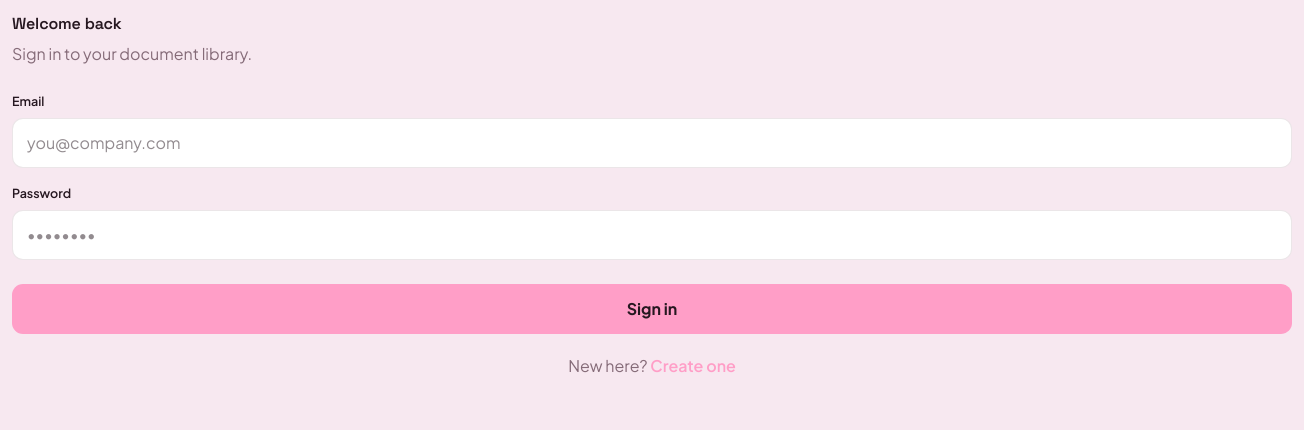
Scenario: AuthForm › shows auth error message on failure
The width and height of the screenshot is (1304, 430).
Type "user@example.com" into the field labelled "Email".
click(652, 143); type("user@example.com")  # box left=12, top=118, right=1292, bottom=168
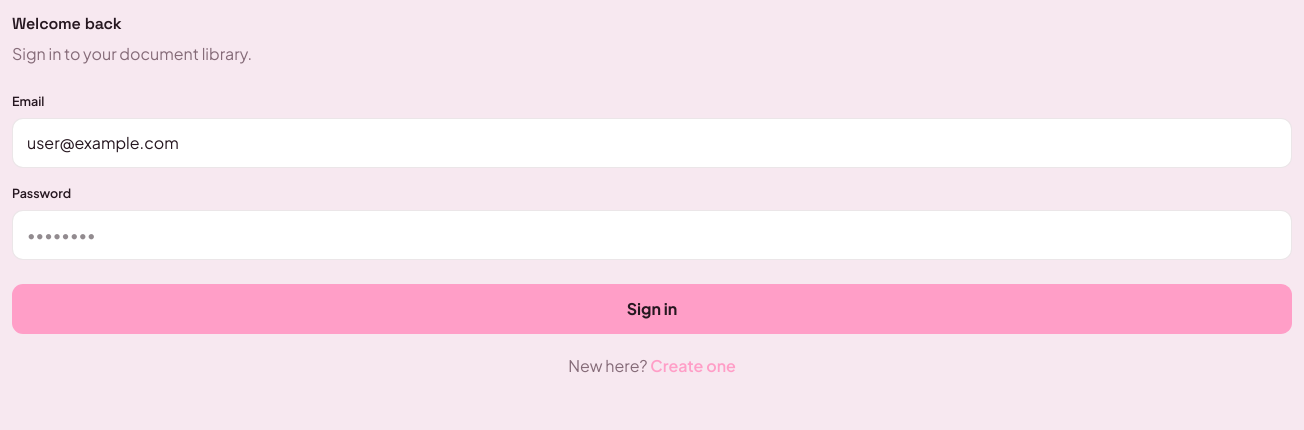
Type "wrong" into the password field labelled "Password".
click(652, 234); type("wrong")  # box left=12, top=210, right=1292, bottom=260
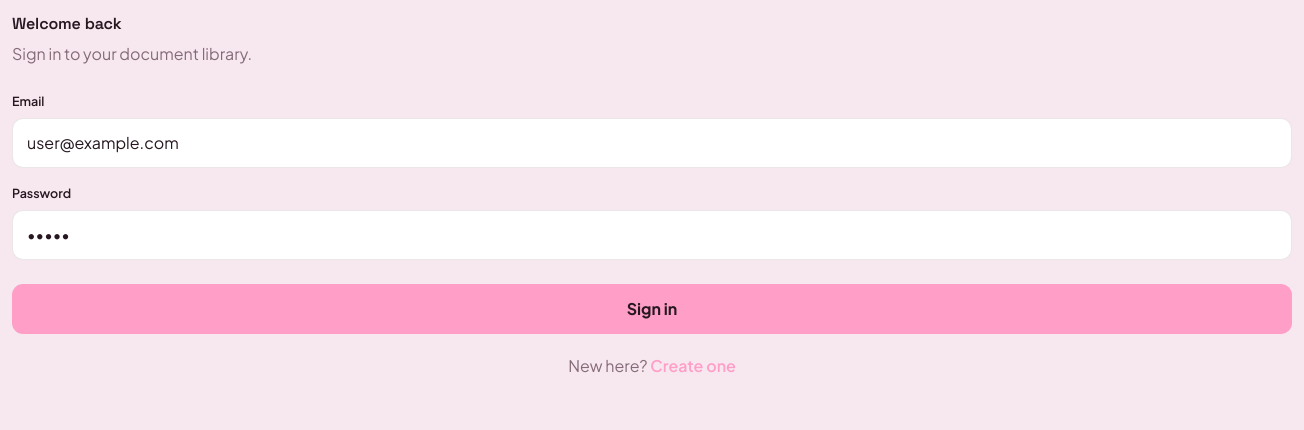
Click the button "Sign in".
click(652, 308)  # box left=12, top=284, right=1292, bottom=334
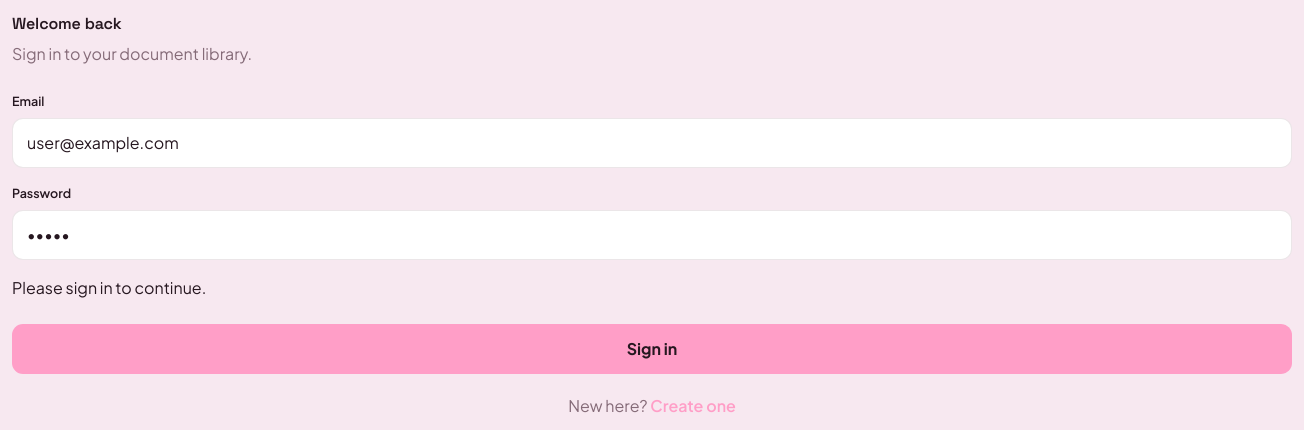
Expected: the message reads "Please sign in to continue.", left=12, top=276, right=206, bottom=298
